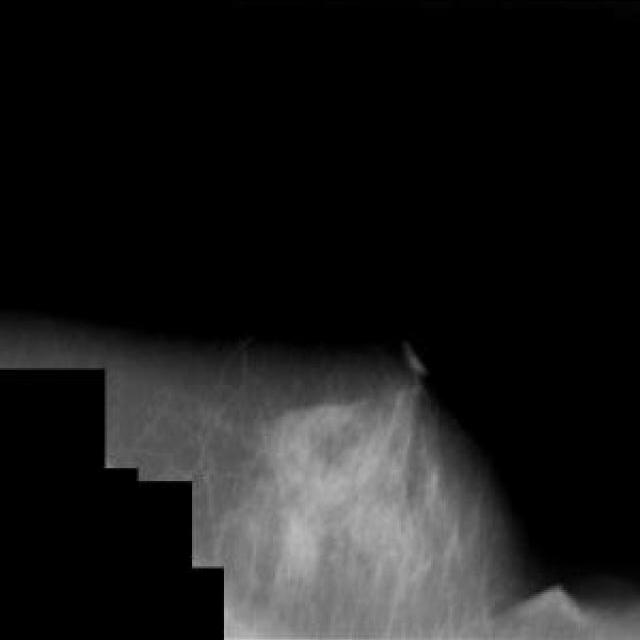tumor: (252, 392, 424, 578)
